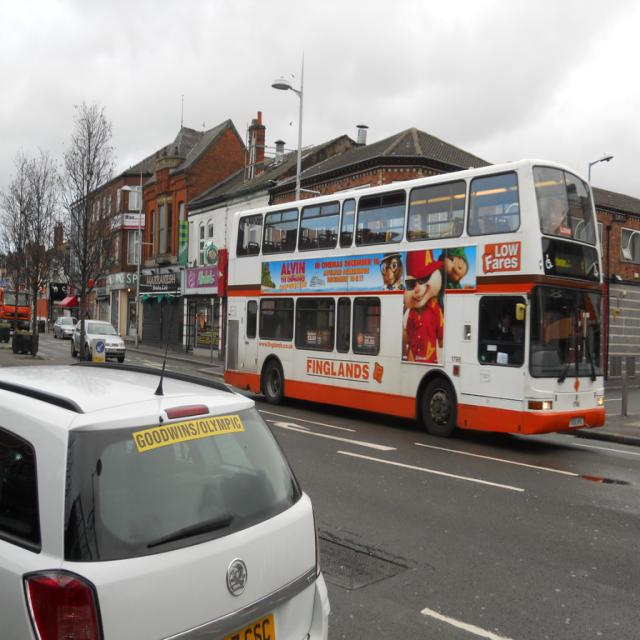Buses: (218, 159, 610, 439)
Passenger Car: (1, 366, 338, 640), (70, 318, 126, 364)
